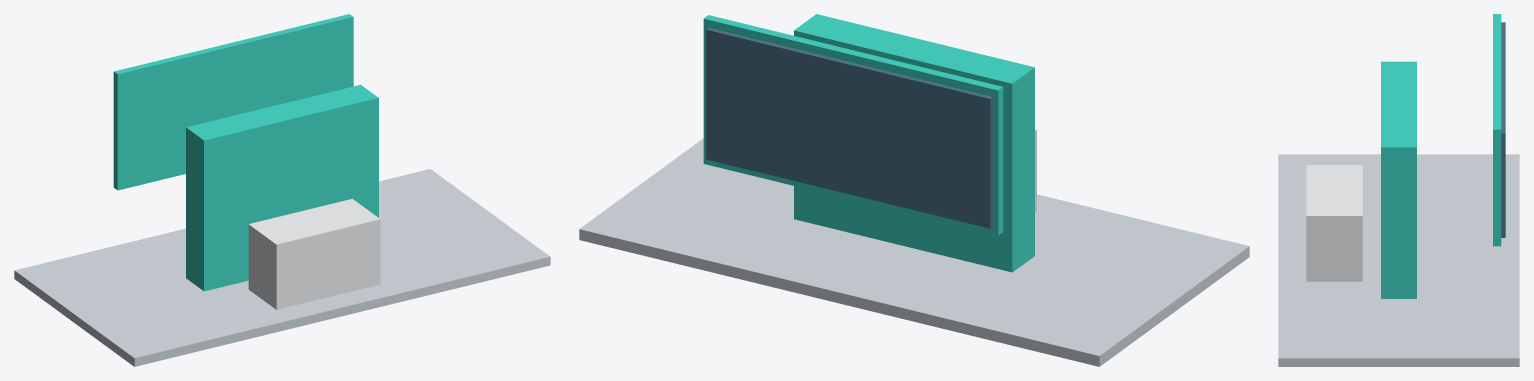
3 views of the same model, side by side, from view 1: azimuth 30°, elevation 25°; view 2: azimuth 150°, elevation 25°; view 3: azimuth 270°, elevation 25° (orthographic). The views are drawn at different scales.
Visible parts, largest first — view 1: Exhibition Booth Concept; view 2: Exhibition Booth Concept; view 3: Exhibition Booth Concept.
Part boxes in pixels (x1,y1,x2,y2): Exhibition Booth Concept: (14,14,550,366); Exhibition Booth Concept: (579,14,1249,366); Exhibition Booth Concept: (1278,14,1519,366).
Size of the model in its own units: 6 by 2.65 by 3.
